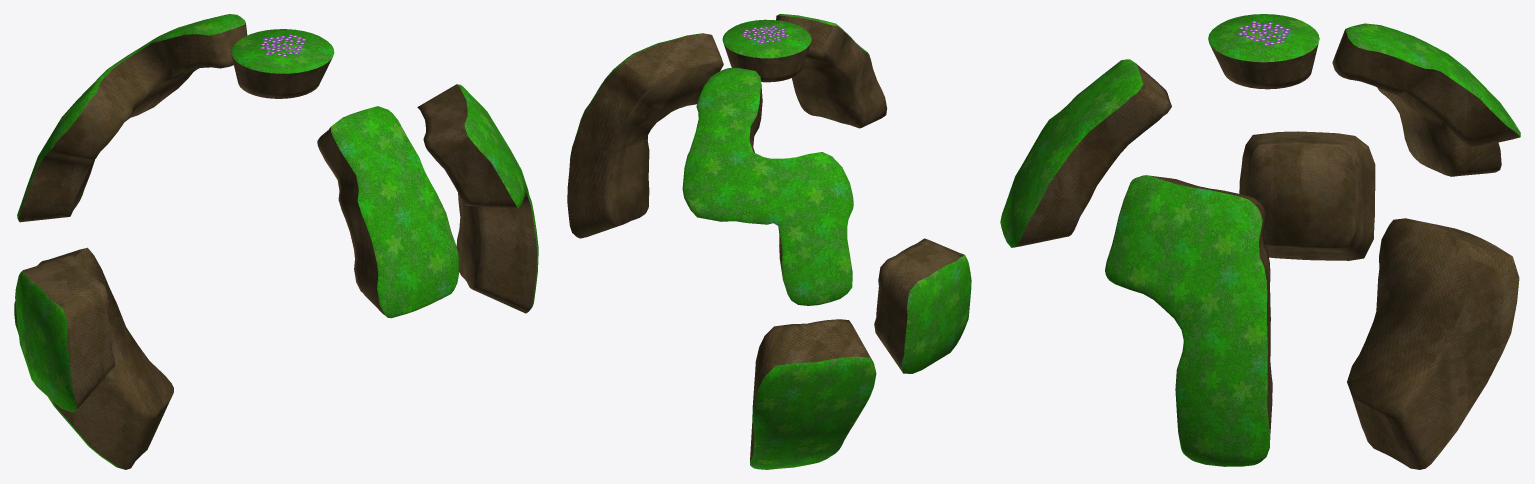
Rendered from HikeGardenSpherePlanet.fbx.
3 renders of one model, left to right at view 1: azimuth 30°, elevation 25°; view 2: azimuth 150°, elevation 25°; view 3: azimuth 270°, elevation 25°, orthographic. The views are drawn at different scales.
Visible parts, largest first — view 1: Plane.002, Plane.001, Plane; view 2: Plane.001, Plane.002, Plane; view 3: Plane.002, Plane.001, Plane.
Part boxes in pixels (x1,y1,x2,y2): Plane.002: (16,23,537,469); Plane.001: (14,14,538,468); Plane: (260,34,306,56); Plane.001: (568,14,971,469); Plane.002: (567,15,964,460); Plane: (742,26,789,43); Plane.002: (1014,29,1519,469); Plane.001: (1000,14,1520,466); Plane: (1237,21,1290,45).
Size of the model in its own units: 363928 by 329543 by 328949.
3 materials, 3 textured.
